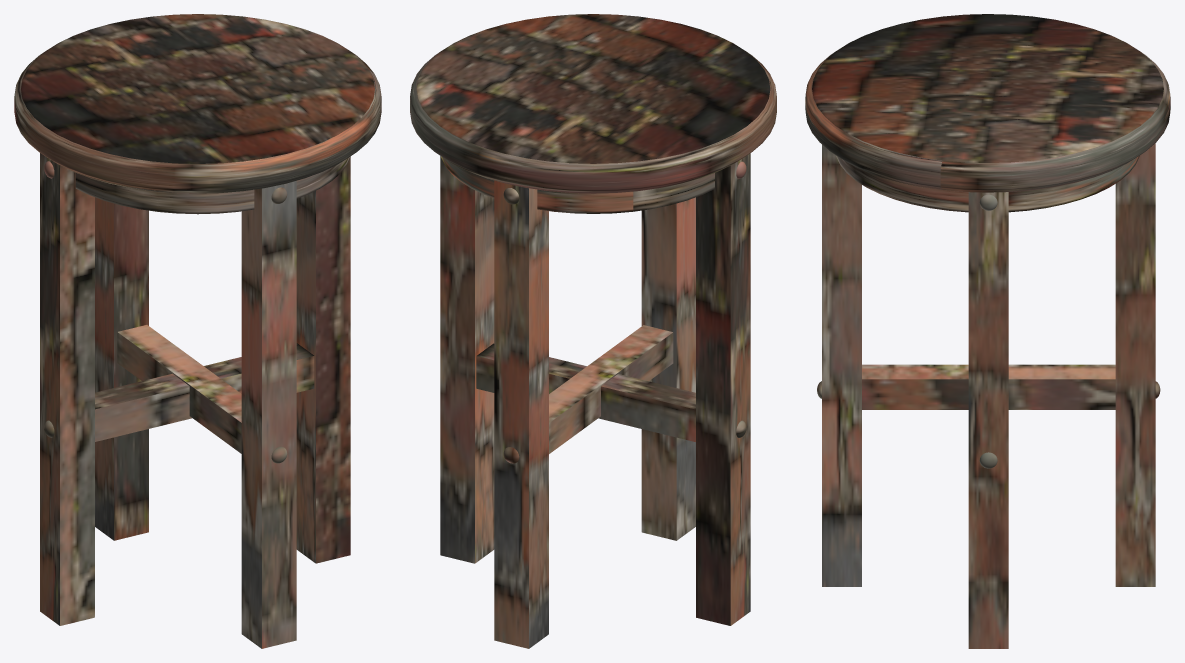
File: drawer9.glb
3 renders of one model, left to right at view 1: azimuth 30°, elevation 25°; view 2: azimuth 150°, elevation 25°; view 3: azimuth 270°, elevation 25°, orthographic.
Parts seen in each view (by area): view 1: Leg_Cube.008, Top_of_stool_Cylinder.001, truss_b_Cube.009, Stoll_top_support_Cylinder.005, Sphere; view 2: Leg_Cube.008, Top_of_stool_Cylinder.001, truss_b_Cube.009, Stoll_top_support_Cylinder.005, Sphere; view 3: Leg_Cube.008, Top_of_stool_Cylinder.001, truss_b_Cube.009, Stoll_top_support_Cylinder.005, Sphere.
Part boxes in pixels (x1,y1,x2,y2): Leg_Cube.008: [40, 153, 350, 648]; Top_of_stool_Cylinder.001: [14, 14, 381, 193]; truss_b_Cube.009: [95, 325, 314, 453]; Stoll_top_support_Cylinder.005: [75, 156, 350, 214]; Sphere: [44, 161, 287, 463]; Leg_Cube.008: [440, 153, 750, 648]; Top_of_stool_Cylinder.001: [410, 14, 776, 193]; truss_b_Cube.009: [476, 325, 695, 453]; Stoll_top_support_Cylinder.005: [441, 156, 714, 213]; Sphere: [503, 161, 746, 463]; Leg_Cube.008: [822, 143, 1155, 648]; Top_of_stool_Cylinder.001: [805, 14, 1170, 192]; truss_b_Cube.009: [862, 364, 1115, 409]; Stoll_top_support_Cylinder.005: [836, 156, 1139, 212]; Sphere: [817, 194, 1160, 468].
Bounding box in the file's own units: 2.57 × 3.84 × 2.57.
1 material, 1 textured.
